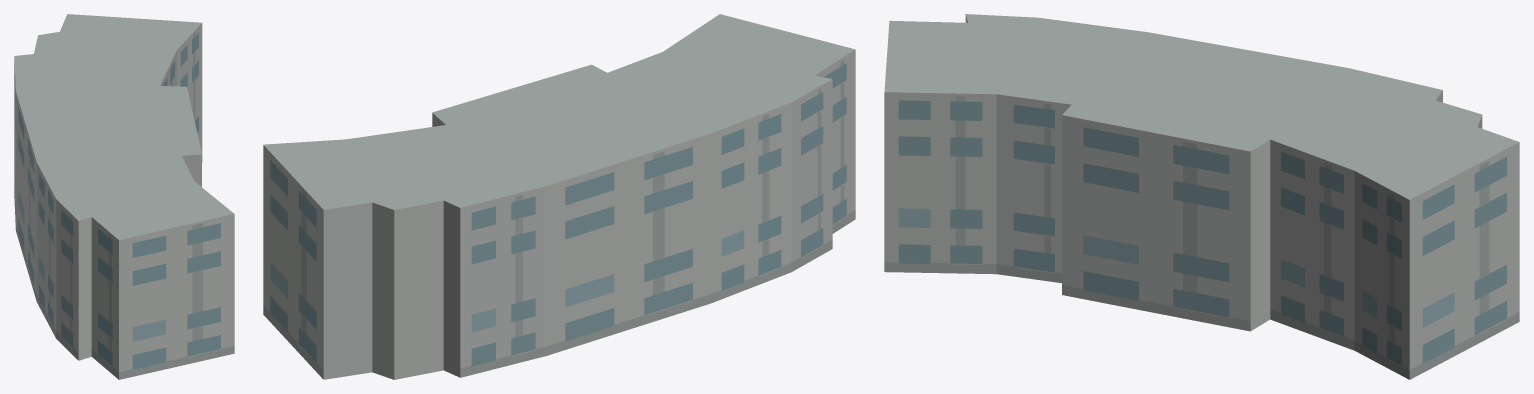
Rendered from residential-cc83b89e-eebe-460f-842f-932c2025b56a.glb.
The picture shows the model from 3 angles, left to right: view 1: azimuth 30°, elevation 25°; view 2: azimuth 150°, elevation 25°; view 3: azimuth 270°, elevation 25°; orthographic projection. The views are drawn at different scales.
Parts seen in each view (by area): view 1: residential-cc83b89e-eebe-460f-842f-932c2025b56a.tmp; view 2: residential-cc83b89e-eebe-460f-842f-932c2025b56a.tmp; view 3: residential-cc83b89e-eebe-460f-842f-932c2025b56a.tmp.
Part boxes in pixels (x1=…): residential-cc83b89e-eebe-460f-842f-932c2025b56a.tmp: x1=14, y1=14, x2=234, y2=379; residential-cc83b89e-eebe-460f-842f-932c2025b56a.tmp: x1=263, y1=14, x2=855, y2=379; residential-cc83b89e-eebe-460f-842f-932c2025b56a.tmp: x1=884, y1=14, x2=1519, y2=379.
Bounding box in the file's own units: 33.82 × 15.25 × 48.79.
